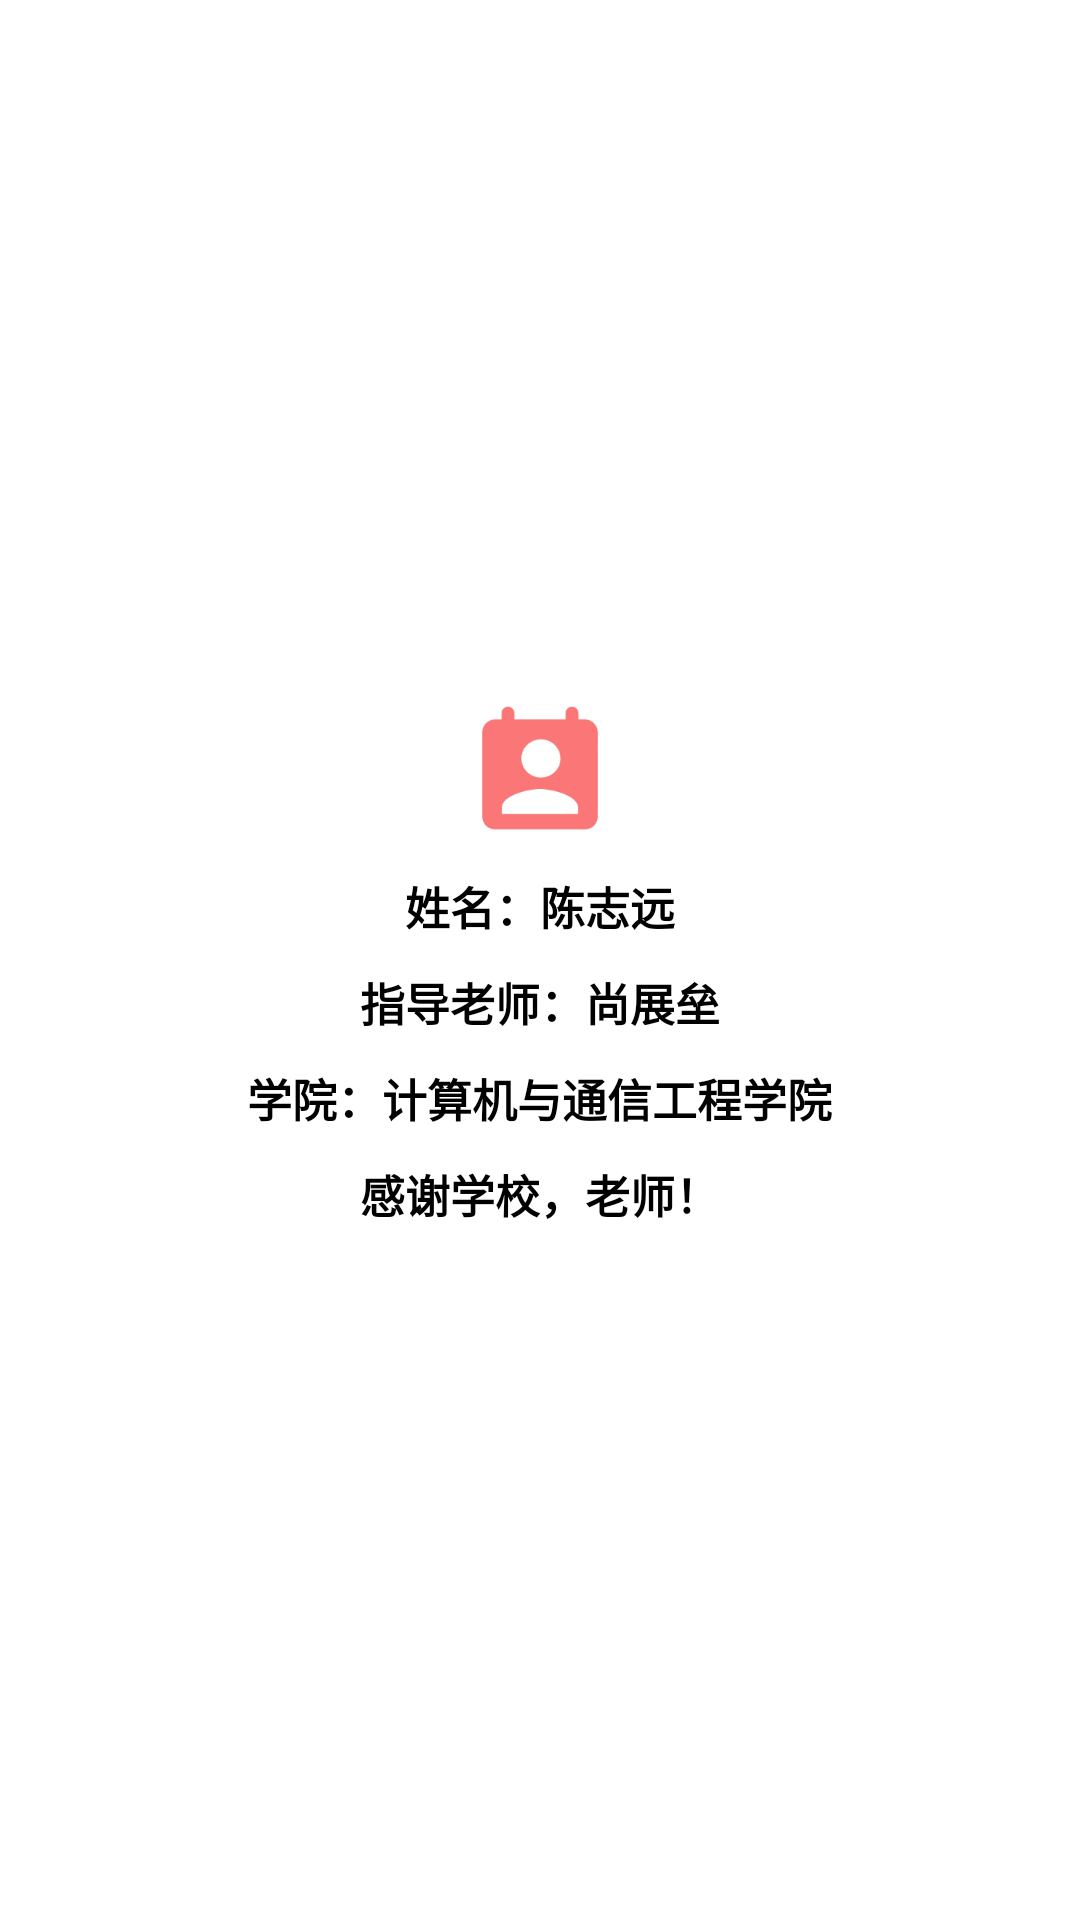

Icon click points for this 1080 × 1920 phone screenshot, format (x,y):
person: (540,768)
